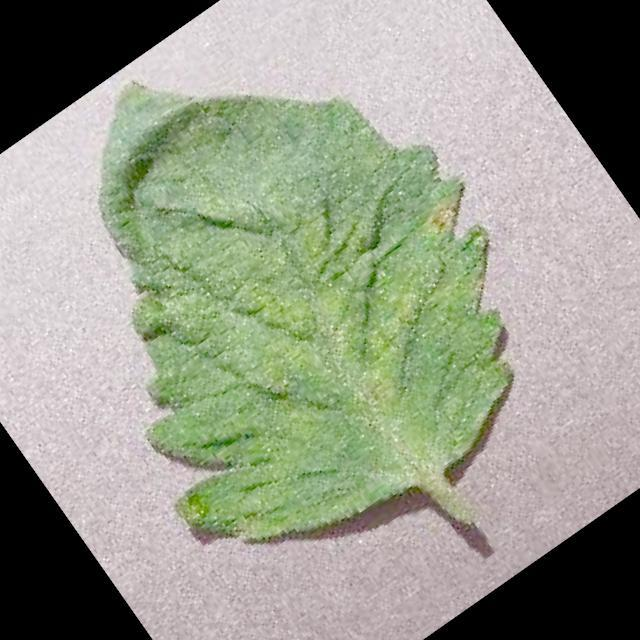Tomato spider mites leaf: (0, 0, 592, 610)
